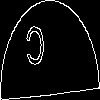C: (25, 24, 46, 74)
